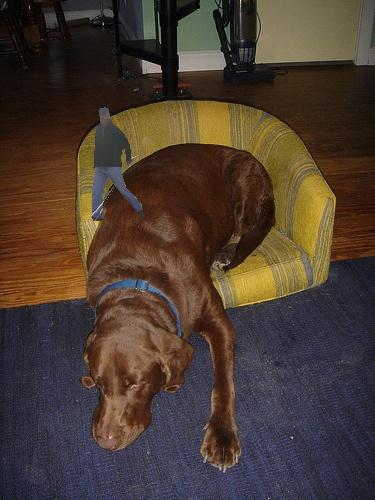tampered: (92, 108, 143, 221)
